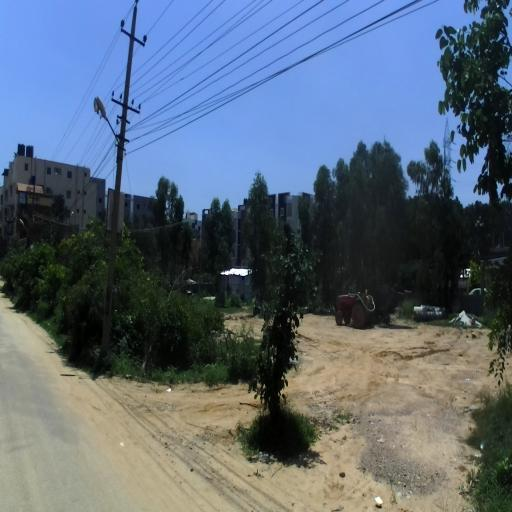street_light_0: (94, 96, 123, 164), (20, 218, 28, 232)
